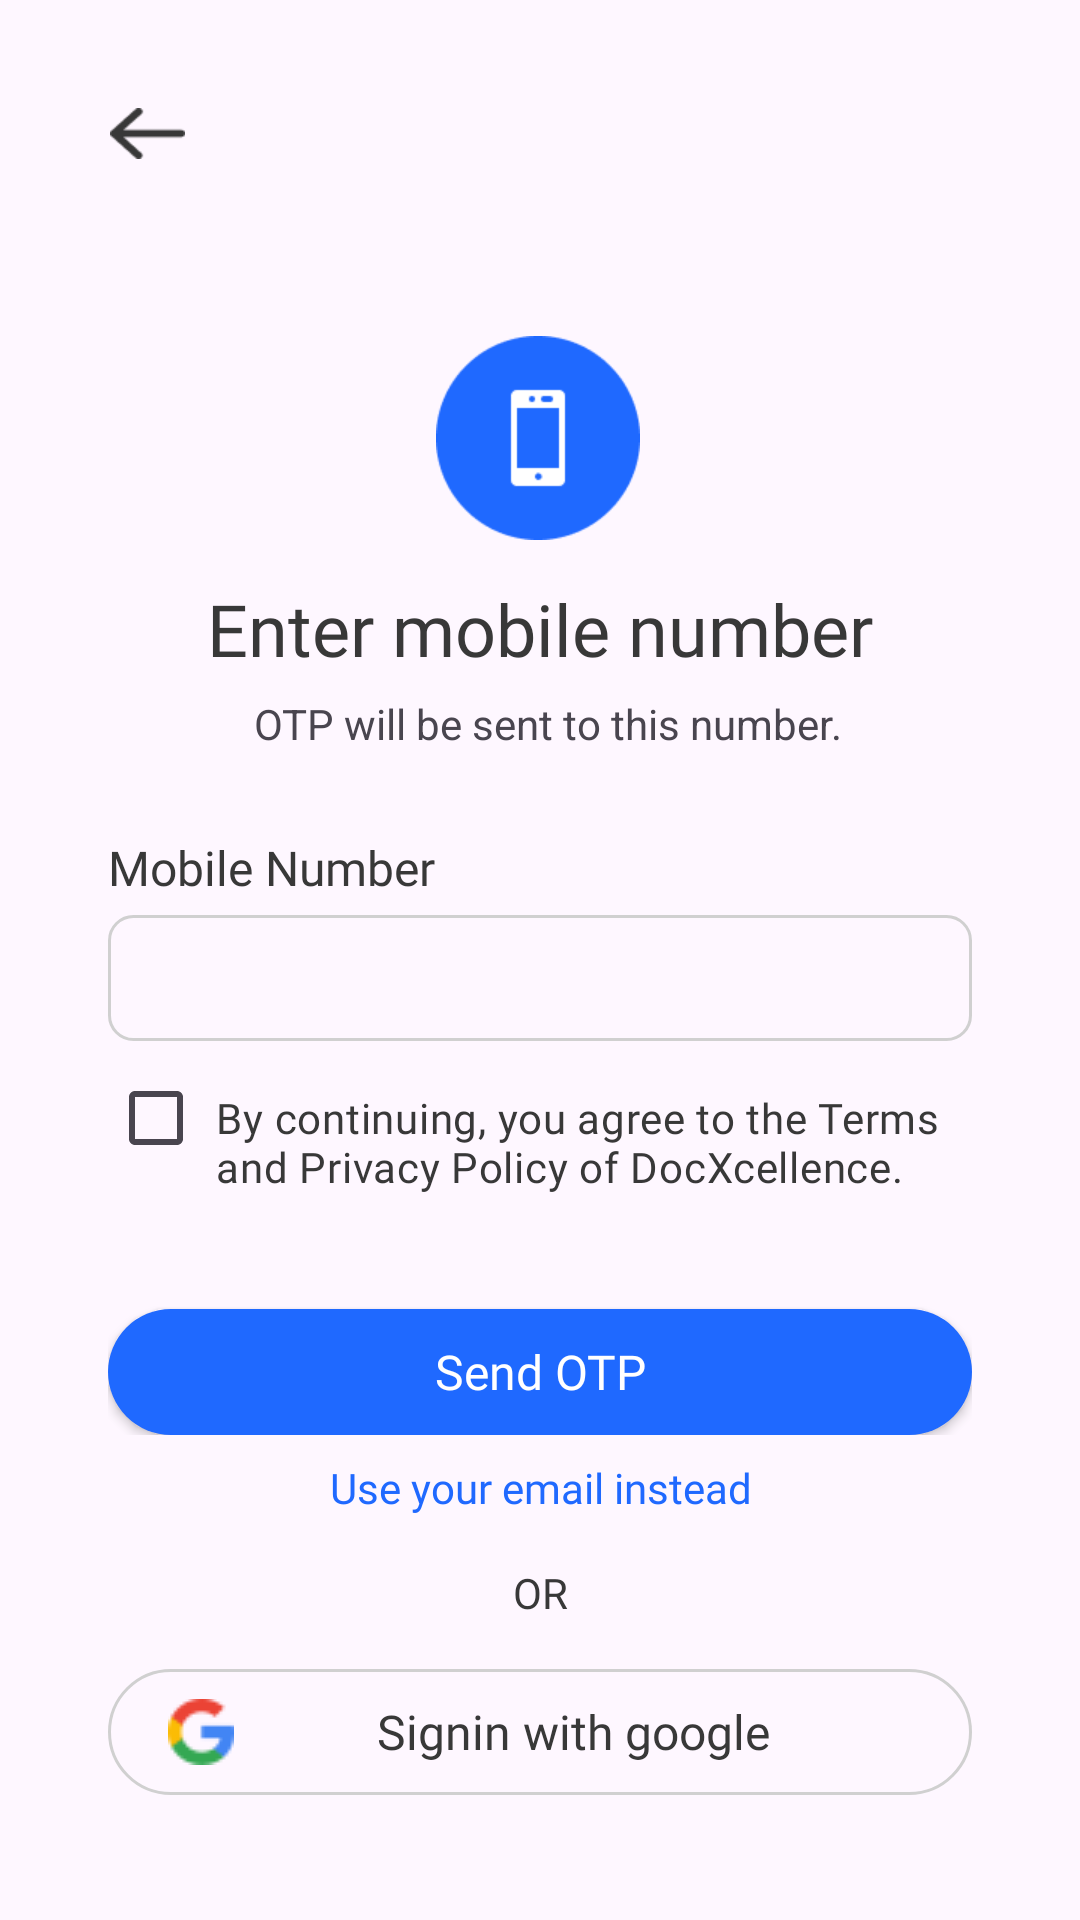

Screen size 1080px×1920px. Icon name, then its box in pixels as (x1=x1, y1=y1, x2=x2, y2=y2):
Back Button Image: (x1=110, y1=108, x2=185, y2=159)
